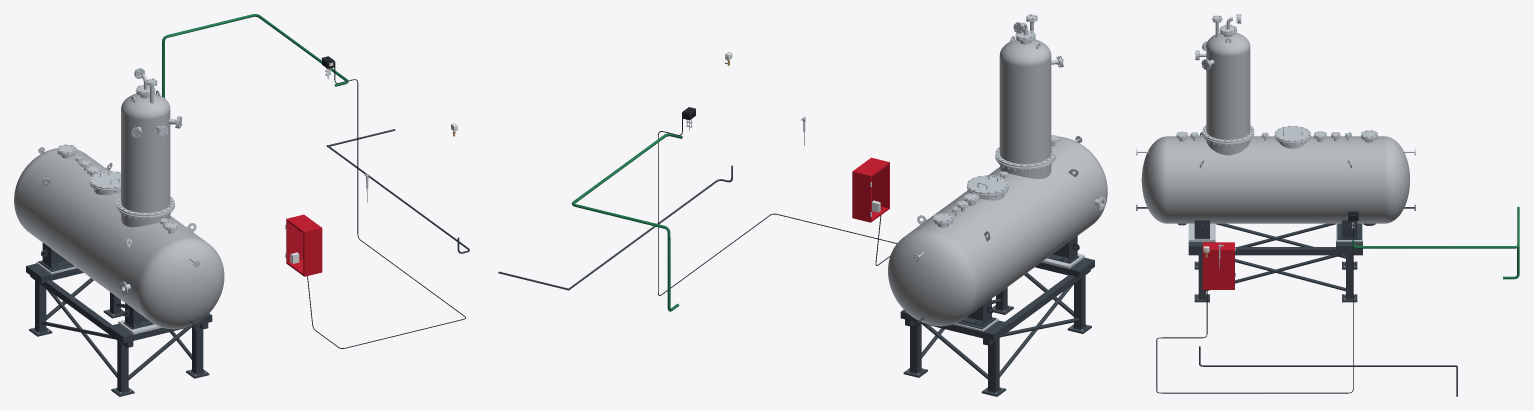
Rendered from s4000-1-w-waMVql.glb.
3 views of the same model, side by side, from view 1: azimuth 30°, elevation 25°; view 2: azimuth 150°, elevation 25°; view 3: azimuth 270°, elevation 25° (orthographic). The views are drawn at different scales.
Parts seen in each view (by area): view 1: deaerator CAD solid 56, deaerator_support / dark, deaerator CAD solid 257, control_cabinet / control_cabinet_0.npz, from_economizer / green, mod_direct_drive_cable / black, deaerator CAD solid 408, tds_common / dark, deaerator_support / steel; view 2: deaerator CAD solid 56, deaerator_support / dark, deaerator CAD solid 257, control_cabinet / control_cabinet_0.npz, from_economizer / green, mod_direct_drive_cable / black, deaerator CAD solid 408; view 3: deaerator CAD solid 56, deaerator CAD solid 257, deaerator_support / dark, control_cabinet / control_cabinet_0.npz, mod_direct_drive_cable / black, from_economizer / green, tds_common / dark, deaerator CAD solid 408, deaerator_support / steel.
Part boxes in pixels (box(x1,y1,x2,y2)): deaerator CAD solid 56: box(14, 148, 224, 329); deaerator_support / dark: box(26, 263, 212, 396); deaerator CAD solid 257: box(121, 93, 170, 212); control_cabinet / control_cabinet_0.npz: box(285, 214, 322, 276); from_economizer / green: box(162, 14, 348, 124); mod_direct_drive_cable / black: box(307, 61, 465, 348); deaerator CAD solid 408: box(89, 171, 120, 189); tds_common / dark: box(326, 145, 469, 253); deaerator_support / steel: box(32, 261, 205, 393); deaerator CAD solid 56: box(888, 136, 1107, 326); deaerator_support / dark: box(900, 257, 1094, 396); deaerator CAD solid 257: box(999, 39, 1051, 164); control_cabinet / control_cabinet_0.npz: box(852, 157, 889, 222); from_economizer / green: box(571, 133, 682, 311); mod_direct_drive_cable / black: box(658, 112, 896, 295); deaerator CAD solid 408: box(967, 175, 1008, 194); deaerator CAD solid 56: box(1141, 136, 1409, 223); deaerator CAD solid 257: box(1206, 33, 1250, 139); deaerator_support / dark: box(1188, 223, 1362, 302); control_cabinet / control_cabinet_0.npz: box(1202, 242, 1235, 289); mod_direct_drive_cable / black: box(1156, 218, 1353, 393); from_economizer / green: box(1352, 206, 1519, 279); tds_common / dark: box(1199, 346, 1456, 366); deaerator CAD solid 408: box(1274, 126, 1310, 142); deaerator_support / steel: box(1188, 223, 1362, 299).
Bounding box in the file's own units: 7.16 × 4.82 × 6.25.
